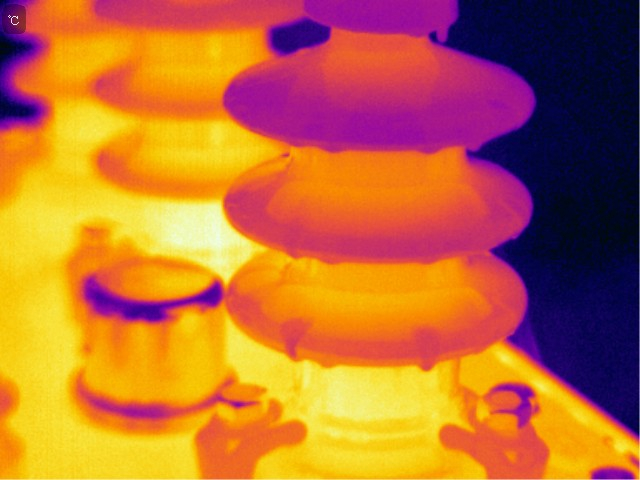Oil: (498, 194, 542, 246), (285, 327, 307, 363), (416, 339, 439, 373), (286, 42, 311, 59), (413, 143, 445, 156), (435, 18, 450, 44), (318, 252, 345, 266), (320, 142, 348, 154), (316, 356, 338, 370), (465, 139, 484, 155), (287, 247, 305, 260)
